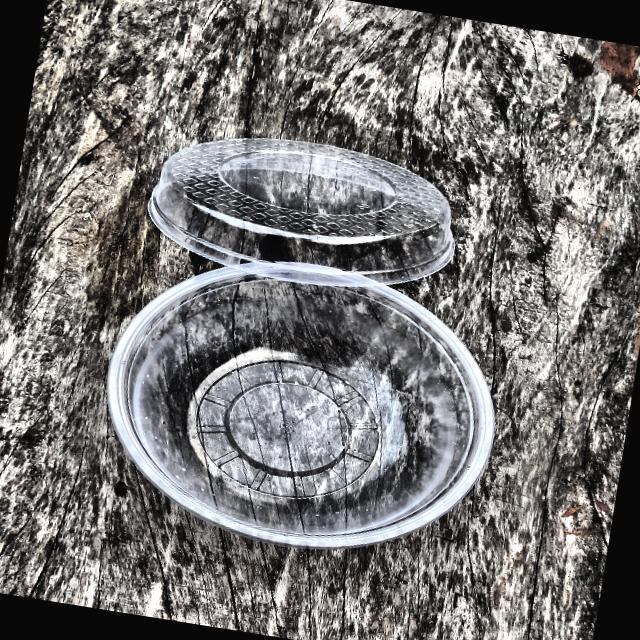plastic container: (62, 108, 532, 582)
